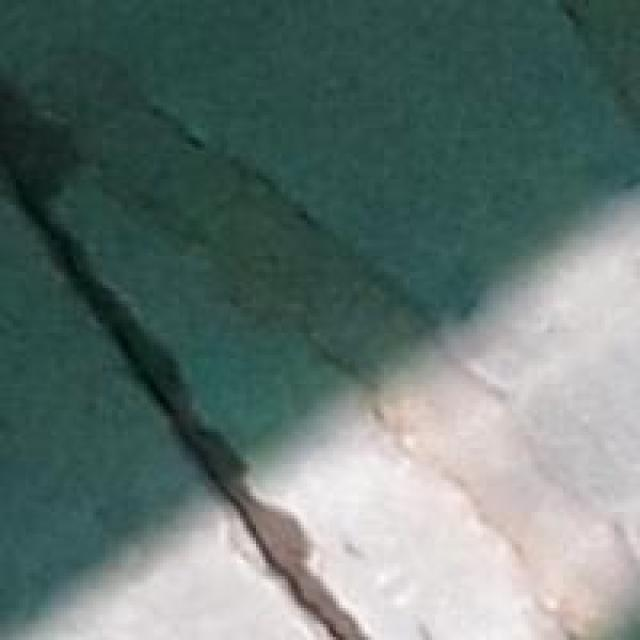Crack: (3, 106, 397, 636)
